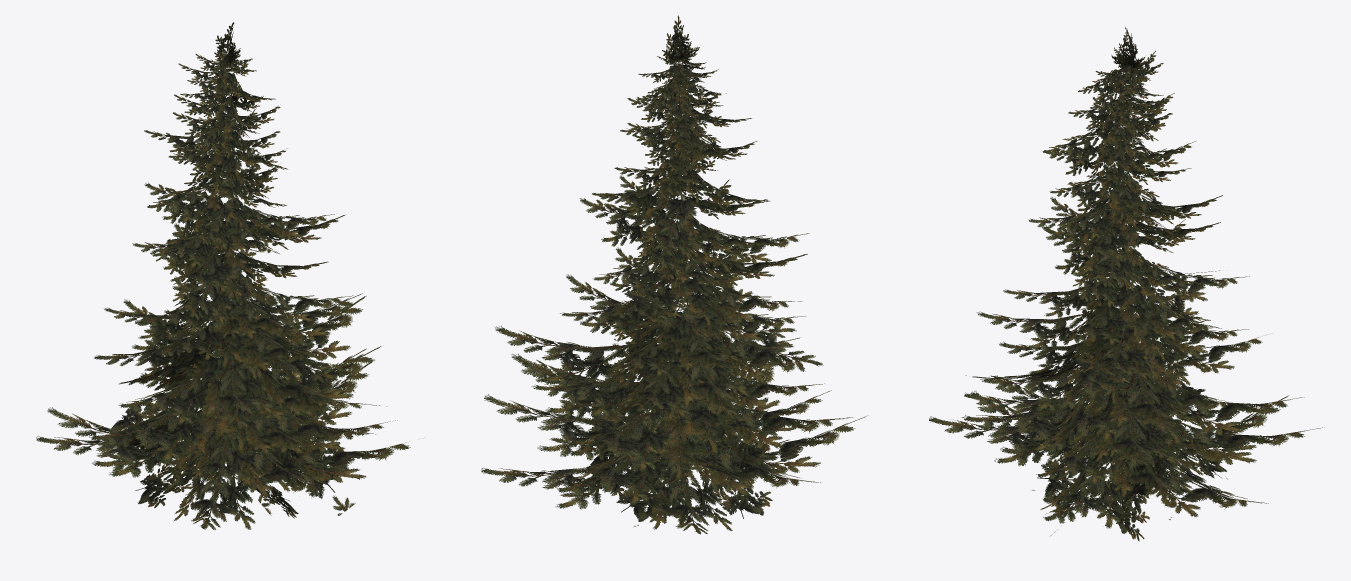
The model's file is Pine_4m.obj.
3 renders of one model, left to right at view 1: azimuth 30°, elevation 25°; view 2: azimuth 150°, elevation 25°; view 3: azimuth 270°, elevation 25°, orthographic. The views are drawn at different scales.
Visible parts, largest first — view 1: pine4m; view 2: pine4m; view 3: pine4m.
Part boxes in pixels (x1,y1,x2,y2): pine4m: (36, 22, 410, 529); pine4m: (481, 15, 867, 534); pine4m: (929, 27, 1324, 541).
Size of what is drawn, in the model's own units: 340 by 442 by 329.
1 material, 1 textured.
